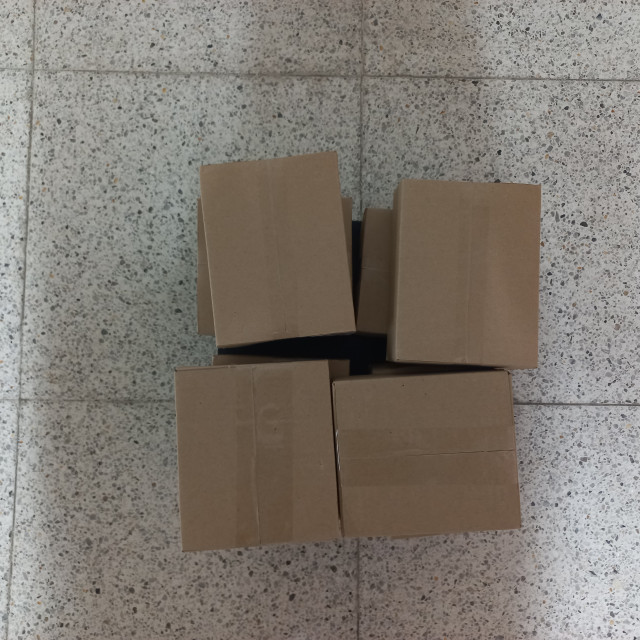box: (329, 367, 524, 542), (195, 147, 359, 351), (171, 360, 332, 554), (388, 178, 545, 366), (81, 206, 285, 339), (97, 328, 272, 475), (290, 225, 491, 349), (265, 370, 465, 490)
